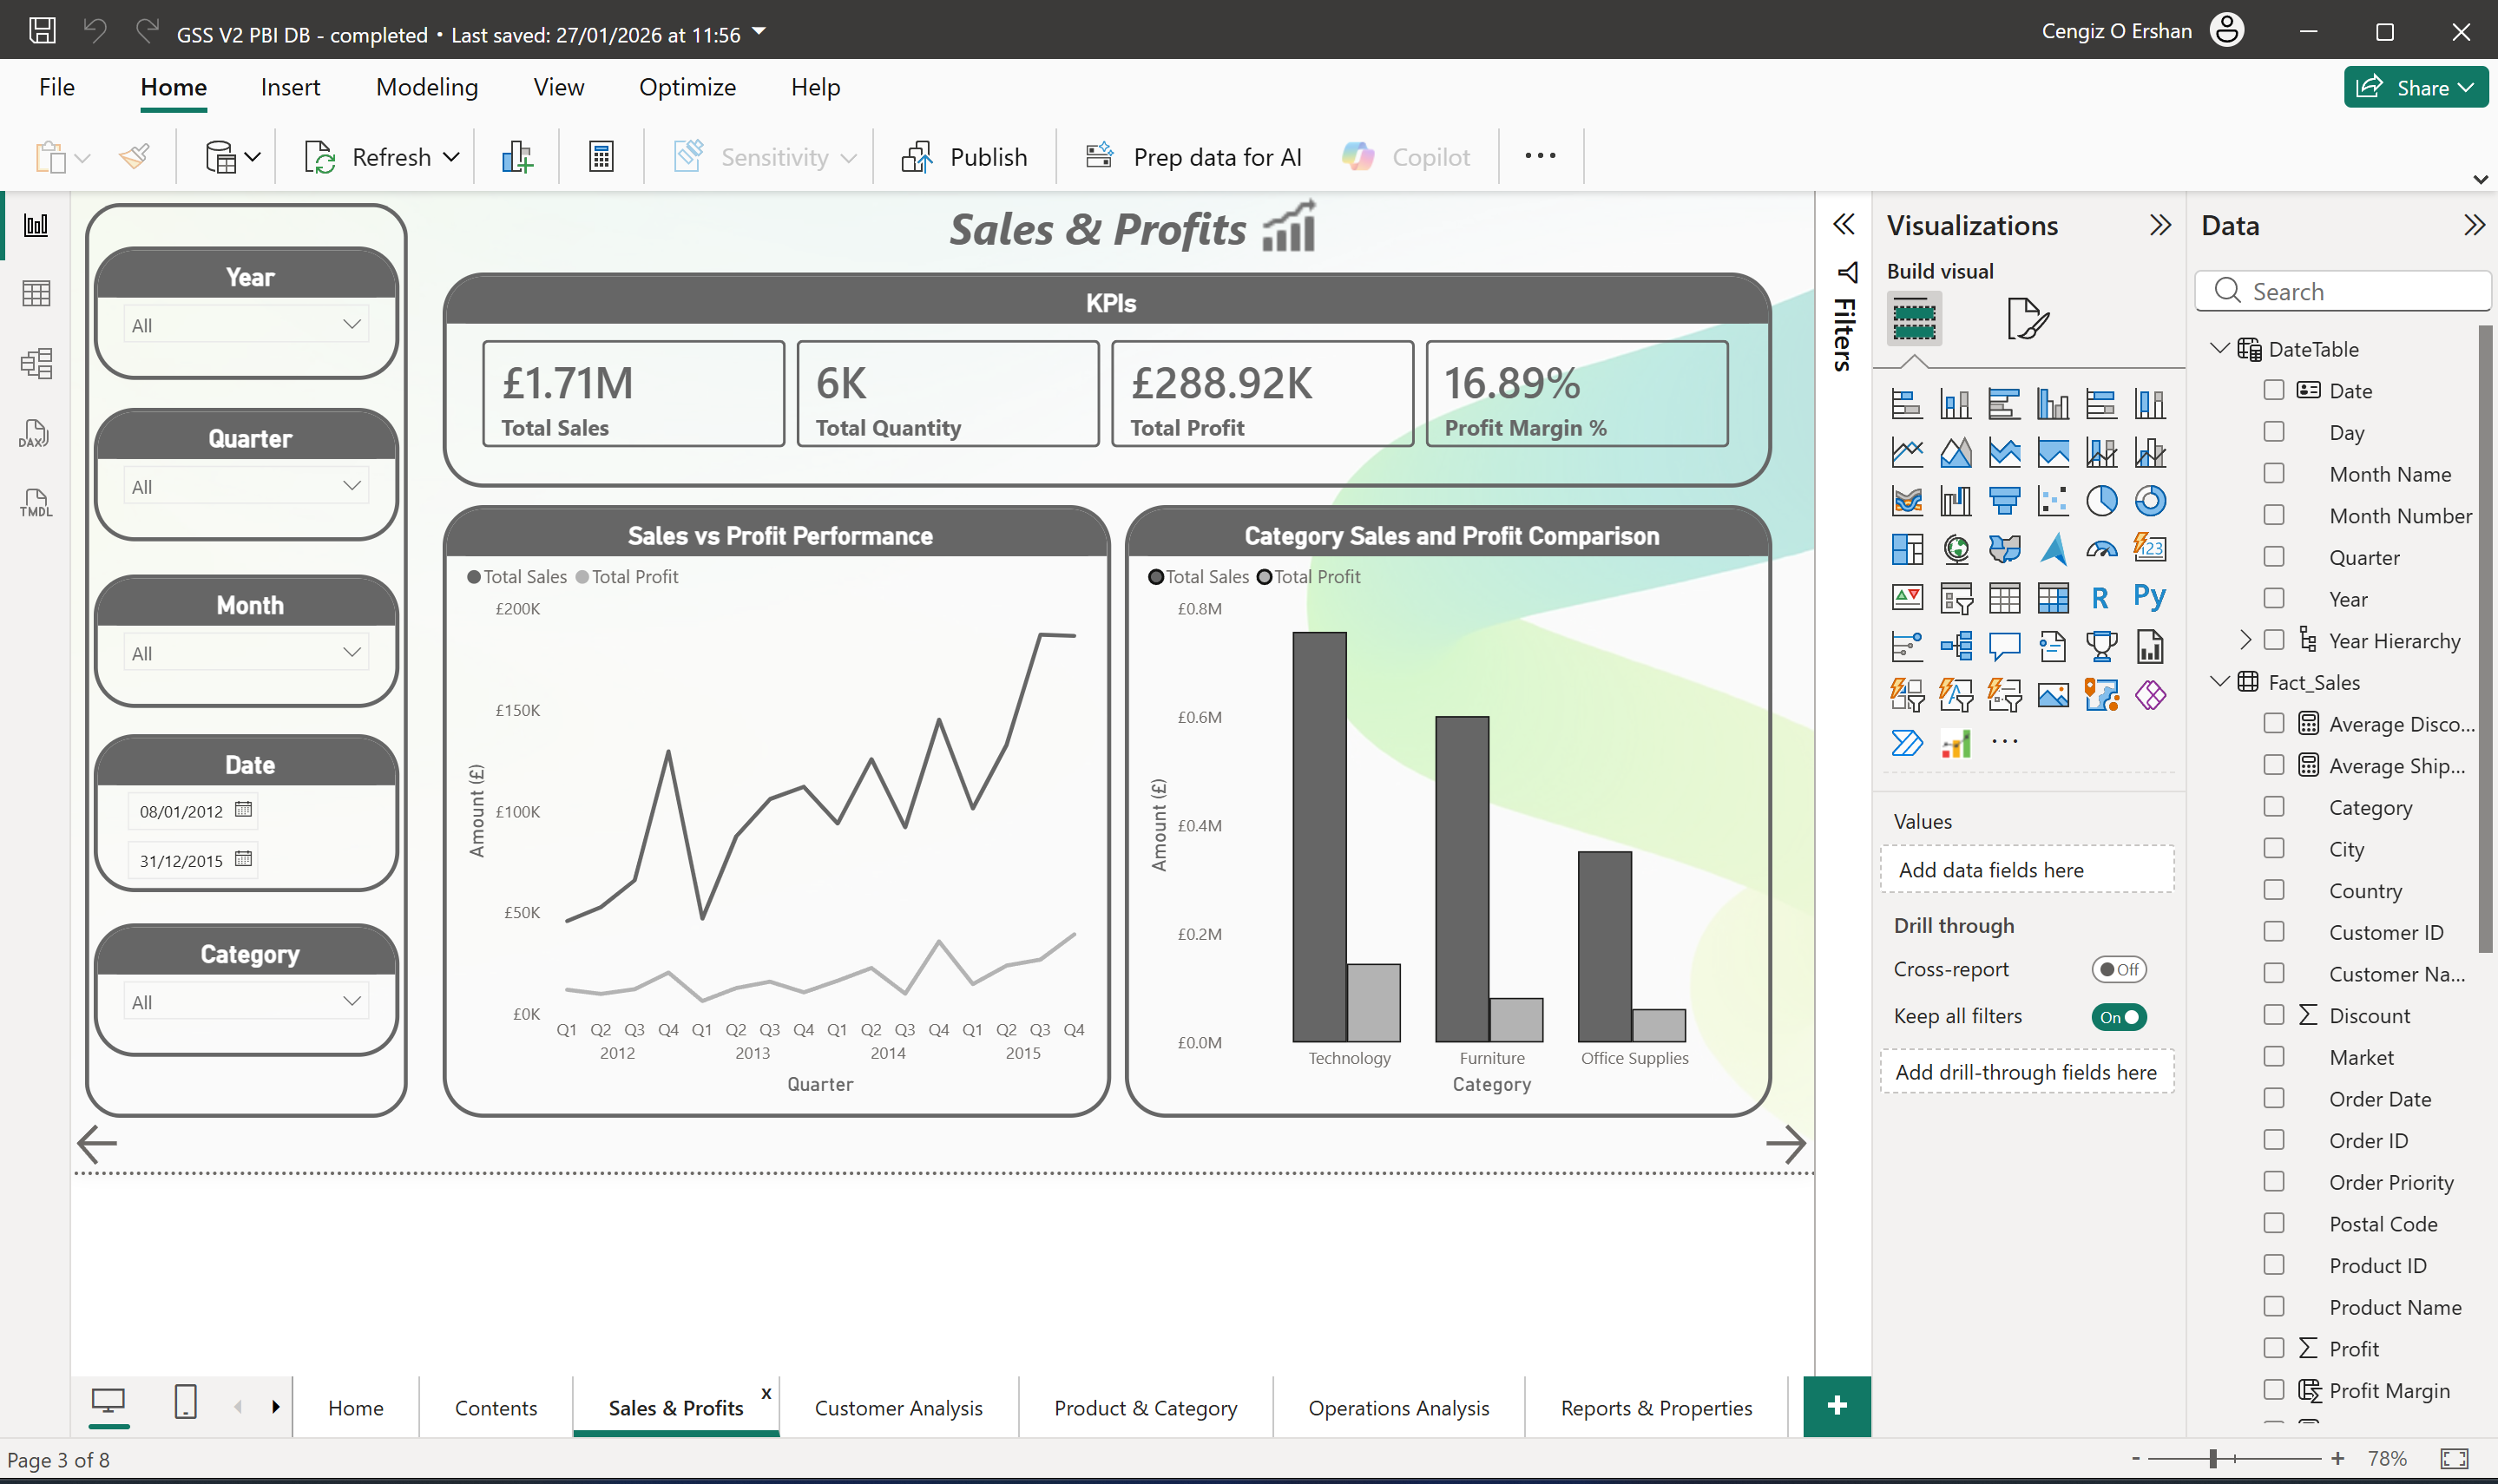

Layout of this report page (visuals, bound fields, positions):
{"tool":"powerbi","page":{"name":"Sales & Profits","canvas":[1280,720],"ordinal":2},"visuals":[{"type":"actionButton","box":[1239.2,680.5,40.8,39.5],"z":0},{"type":"actionButton","box":[0,680.5,42.1,39.5],"z":1000},{"type":"textbox","box":[640,0,237.1,59.9],"z":2000},{"type":"shape","box":[10.2,8.9,237.1,671.9],"z":3000},{"type":"image","box":[863.1,0,62.5,51],"z":4000},{"type":"slicer","title":"Year","fields":{"Values":["Date_Table.Year"]},"box":[16.6,40.8,224.4,98.2],"z":5000},{"type":"slicer","title":"Quarter","fields":{"Values":["Date_Table.Quarter"]},"box":[16.6,159.4,224.4,98.2],"z":6000},{"type":"slicer","title":"Month","fields":{"Values":["Date_Table.Month Name"]},"box":[16.6,281.8,224.4,98.2],"z":7000},{"type":"slicer","title":"Date","fields":{"Values":["Date_Table.Date"]},"box":[16.6,399,224.4,116],"z":8000},{"type":"cardVisual","title":"KPIs","fields":{"Data":["Fact_Sales.Total Sales","Fact_Sales.Total Quantity","Fact_Sales.Total Profit","Fact_Sales.Profit Margin %"]},"box":[272.8,59.9,976.6,158.1],"z":9000},{"type":"lineChart","title":"Sales vs Profit Performance","fields":{"Y":["Fact_Sales.Total Sales","Fact_Sales.Total Profit"],"Category":["Date_Table.Year Hierarchy.Year","Date_Table.Year Hierarchy.Quarter","Date_Table.Year Hierarchy.Month Name","Date_Table.Year Hierarchy.Date"]},"box":[272.8,230.8,490.8,450],"z":10000},{"type":"slicer","title":"Category","fields":{"Values":["Fact_Sales.Category"]},"box":[16.6,538,224.4,98.2],"z":11000},{"type":"clusteredColumnChart","title":"Category Sales and Profit Comparison","fields":{"Category":["Fact_Sales.Category"],"Y":["Fact_Sales.Total Sales","Fact_Sales.Total Profit"]},"box":[773.9,230.8,475.5,450],"z":12000}]}

Visuals, with their boxes on the page's 1280x720 design canvas (x1, y1, x2, y2). These are canvas units, not pixel positions in the 2498x1484 screenshot, which may show the page scaled, cropped or inside an application window:
actionButton: <region>1239, 680, 1280, 720</region>
actionButton: <region>0, 680, 42, 720</region>
textbox: <region>640, 0, 877, 60</region>
shape: <region>10, 9, 247, 681</region>
image: <region>863, 0, 926, 51</region>
"Year" slicer: <region>17, 41, 241, 139</region>
"Quarter" slicer: <region>17, 159, 241, 258</region>
"Month" slicer: <region>17, 282, 241, 380</region>
"Date" slicer: <region>17, 399, 241, 515</region>
"KPIs" cardVisual: <region>273, 60, 1249, 218</region>
"Sales vs Profit Performance" lineChart: <region>273, 231, 764, 681</region>
"Category" slicer: <region>17, 538, 241, 636</region>
"Category Sales and Profit Comparison" clusteredColumnChart: <region>774, 231, 1249, 681</region>
